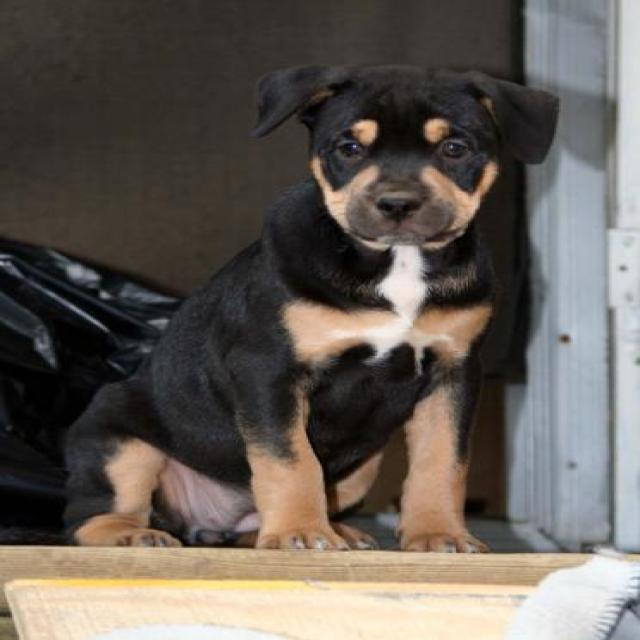Dogs: (57, 60, 559, 553)
